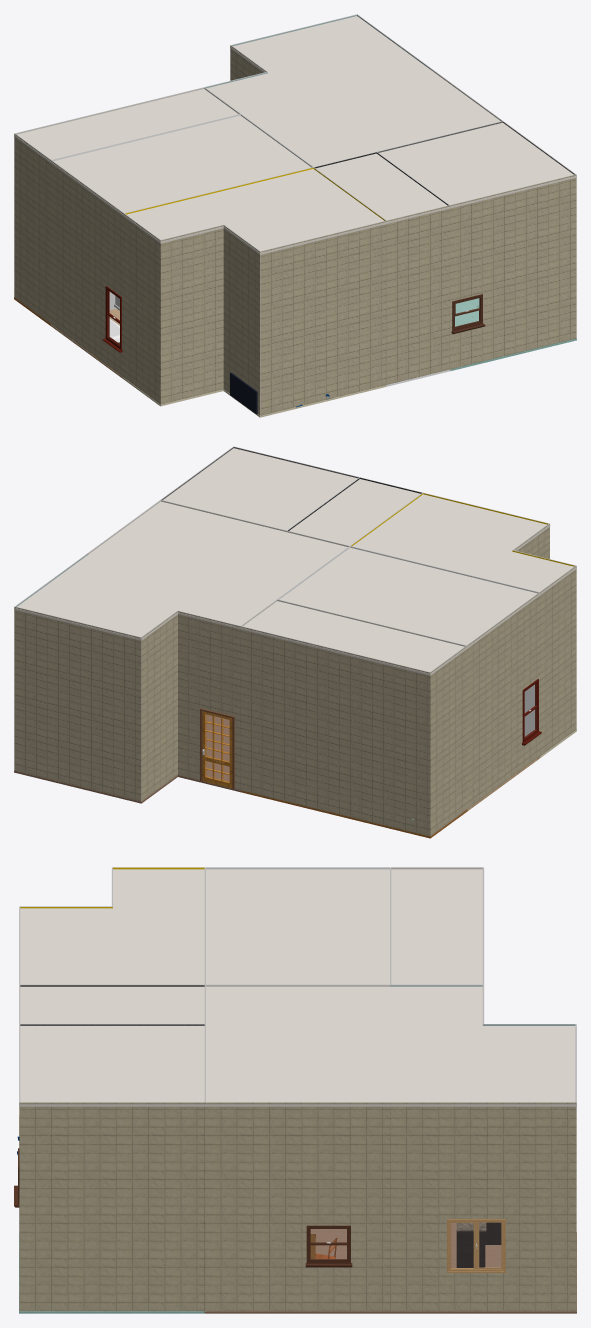
File: ProcTHOR-Train-28.glb
3 renders of one model, top to bottom at view 1: azimuth 30°, elevation 25°; view 2: azimuth 150°, elevation 25°; view 3: azimuth 270°, elevation 25°, orthographic. The views are drawn at different scales.
Parts seen in each view (by area): view 1: WallInside#wall|exterior|5.74|11.48|9.56|11.48, WallInside#wall|exterior|0.00|11.48|3.83|11.48, Ceiling#room|8|c, Ceiling#room|3|c, Ceiling#room|6|c, Ceiling#room|2|c, WallInside#wall|exterior|11.48|3.83|11.48|7.65, WallInside#wall|exterior|9.56|9.56|11.48|9.56, WallInside#wall|exterior|3.83|11.48|5.74|11.48, Ceiling#room|4|c, Ceiling#room|7|c, WallInside#wall|exterior|11.48|1.91|11.48|3.83 (+9 smaller); view 2: WallInside#wall|exterior|5.74|1.91|11.48|1.91, WallInside#wall|exterior|0.00|0.00|3.83|0.00, Ceiling#room|3|c, Ceiling#room|8|c, Ceiling#room|2|c, Ceiling#room|6|c, WallInside#wall|exterior|11.48|3.83|11.48|7.65, Ceiling#room|4|c, WallInside#wall|exterior|3.83|1.91|5.74|1.91, Ceiling#room|7|c, WallInside#wall|exterior|11.48|1.91|11.48|3.83, WallInside#wall|exterior|3.83|0.00|3.83|1.91 (+9 smaller); view 3: WallInside#wall|exterior|0.00|7.65|0.00|11.48, WallInside#wall|exterior|0.00|3.83|0.00|7.65, WallInside#wall|exterior|0.00|0.00|0.00|3.83, Ceiling#room|3|c, Ceiling#room|8|c, Ceiling#room|2|c, Ceiling#room|6|c, Ceiling#room|4|c, Ceiling#room|7|c, Ceiling#room|5|c, Countertop_C_8x6, Floor#room|3|f (+4 smaller).
Boxes of the visible parts, x1,y1,x2,y2 form: WallInside#wall|exterior|5.74|11.48|9.56|11.48: (260,221,386,415); WallInside#wall|exterior|0.00|11.48|3.83|11.48: (449,174,576,369); Ceiling#room|8|c: (50,115,312,215); Ceiling#room|3|c: (241,69,500,166); Ceiling#room|6|c: (123,169,386,254); Ceiling#room|2|c: (206,16,429,114); WallInside#wall|exterior|11.48|3.83|11.48|7.65: (51,160,123,377); WallInside#wall|exterior|9.56|9.56|11.48|9.56: (160,225,223,404); WallInside#wall|exterior|3.83|11.48|5.74|11.48: (386,205,450,384); Ceiling#room|4|c: (379,122,576,208); Ceiling#room|7|c: (14,89,238,162); WallInside#wall|exterior|11.48|1.91|11.48|3.83: (14,133,51,323); WallInside#wall|exterior|5.74|1.91|11.48|1.91: (240,626,430,836); WallInside#wall|exterior|0.00|0.00|3.83|0.00: (14,606,141,801); Ceiling#room|3|c: (88,501,347,600); Ceiling#room|8|c: (277,547,540,647); Ceiling#room|2|c: (14,554,275,640); Ceiling#room|6|c: (352,494,576,594); WallInside#wall|exterior|11.48|3.83|11.48|7.65: (467,592,539,809); Ceiling#room|4|c: (163,448,359,531); WallInside#wall|exterior|3.83|1.91|5.74|1.91: (178,611,240,789); Ceiling#room|7|c: (241,601,467,675); WallInside#wall|exterior|11.48|1.91|11.48|3.83: (430,646,467,836); WallInside#wall|exterior|3.83|0.00|3.83|1.91: (141,611,177,801); WallInside#wall|exterior|0.00|7.65|0.00|11.48: (19,1102,205,1311); WallInside#wall|exterior|0.00|3.83|0.00|7.65: (204,1102,390,1311); WallInside#wall|exterior|0.00|0.00|0.00|3.83: (390,1102,576,1311); Ceiling#room|3|c: (204,986,391,1106); Ceiling#room|8|c: (204,869,391,986); Ceiling#room|2|c: (389,986,576,1106); Ceiling#room|6|c: (19,869,206,986); Ceiling#room|4|c: (19,1025,206,1106); Ceiling#room|7|c: (389,869,484,986); Ceiling#room|5|c: (19,986,206,1024); Countertop_C_8x6: (456,1222,501,1267); Floor#room|3|f: (204,1229,390,1313).
Size of what is drawn, in the model's own units: 11.72 by 4.81 by 11.62.
Materials: 373 (168 with a texture image).
